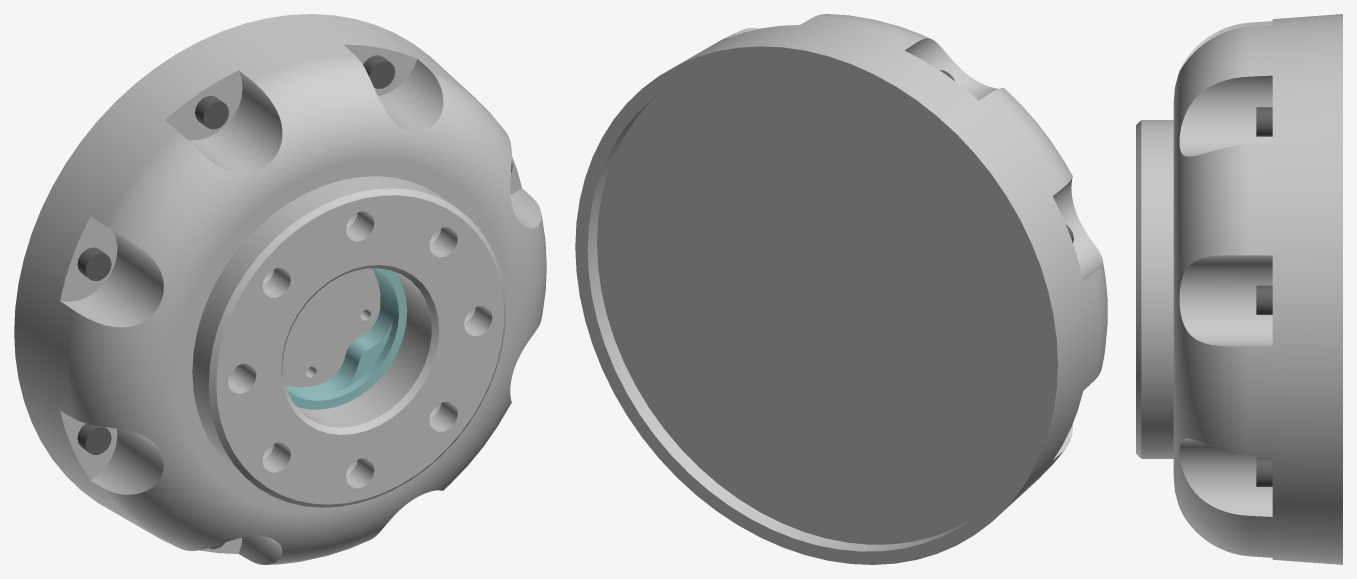
The picture shows the model from 3 angles, left to right: view 1: azimuth 30°, elevation 25°; view 2: azimuth 150°, elevation 25°; view 3: azimuth 270°, elevation 25°; orthographic projection.
Visible parts, largest first — view 1: link_7; view 2: link_7; view 3: link_7.
Boxes of the visible parts, left/top/right/bottom form: link_7: left=14, top=14, right=546, bottom=564; link_7: left=575, top=14, right=1107, bottom=564; link_7: left=1136, top=14, right=1342, bottom=564.
Size of the model in its own units: 0.1023 by 0.1021 by 0.0384.
